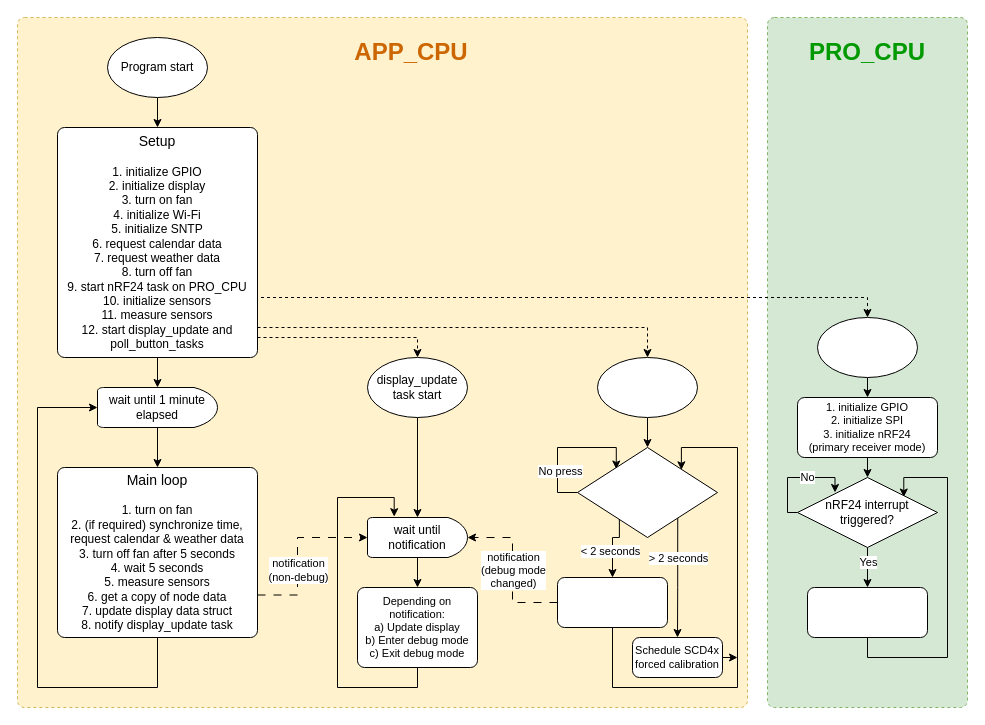
This 985x725 diagram has some shape labels left out. The shapes that lost their labels are listed below. From the top down, each one's centre as x and y in pixels, then its label:
pixel 867 347: nrf24_receive task start
pixel 647 387: poll_button task start
pixel 647 492: Debug button pressed and released?
pixel 612 602: Toggle debug mode boolean, notify display_update task
pixel 867 612: Read nRF24 IRQ flags, receive and decode payload, save data
